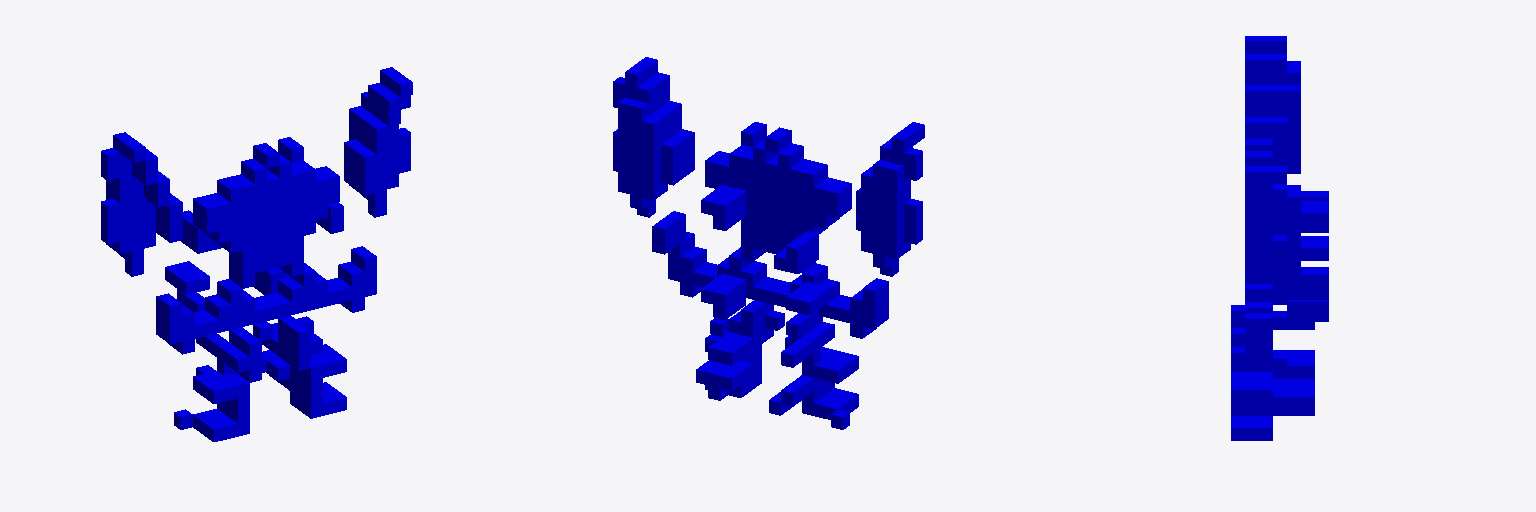
File: azul2.obj
3 views of the same model, side by side, from view 1: azimuth 30°, elevation 25°; view 2: azimuth 150°, elevation 25°; view 3: azimuth 270°, elevation 25° (orthographic).
Size of the model in its own units: 3.05 by 2.92 by 0.853.